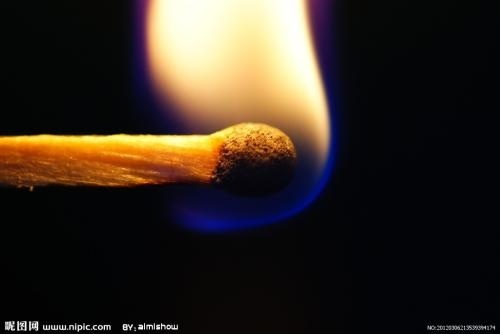fire: (138, 0, 332, 164)
